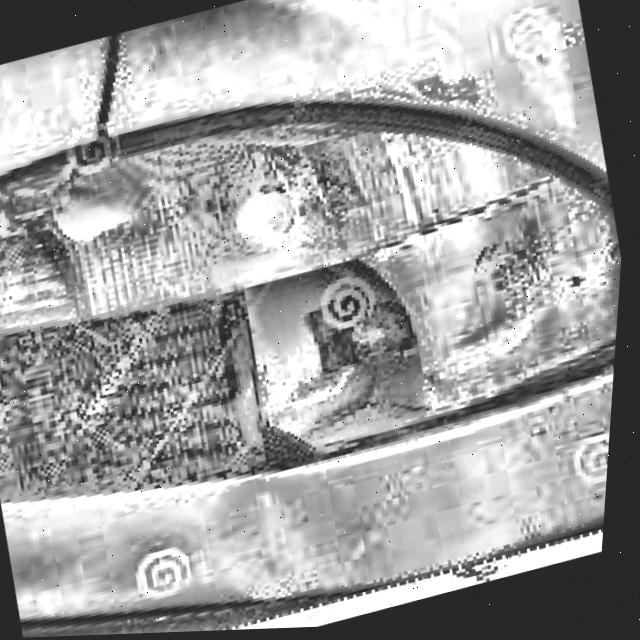head_lamp: (0, 46, 635, 536)
